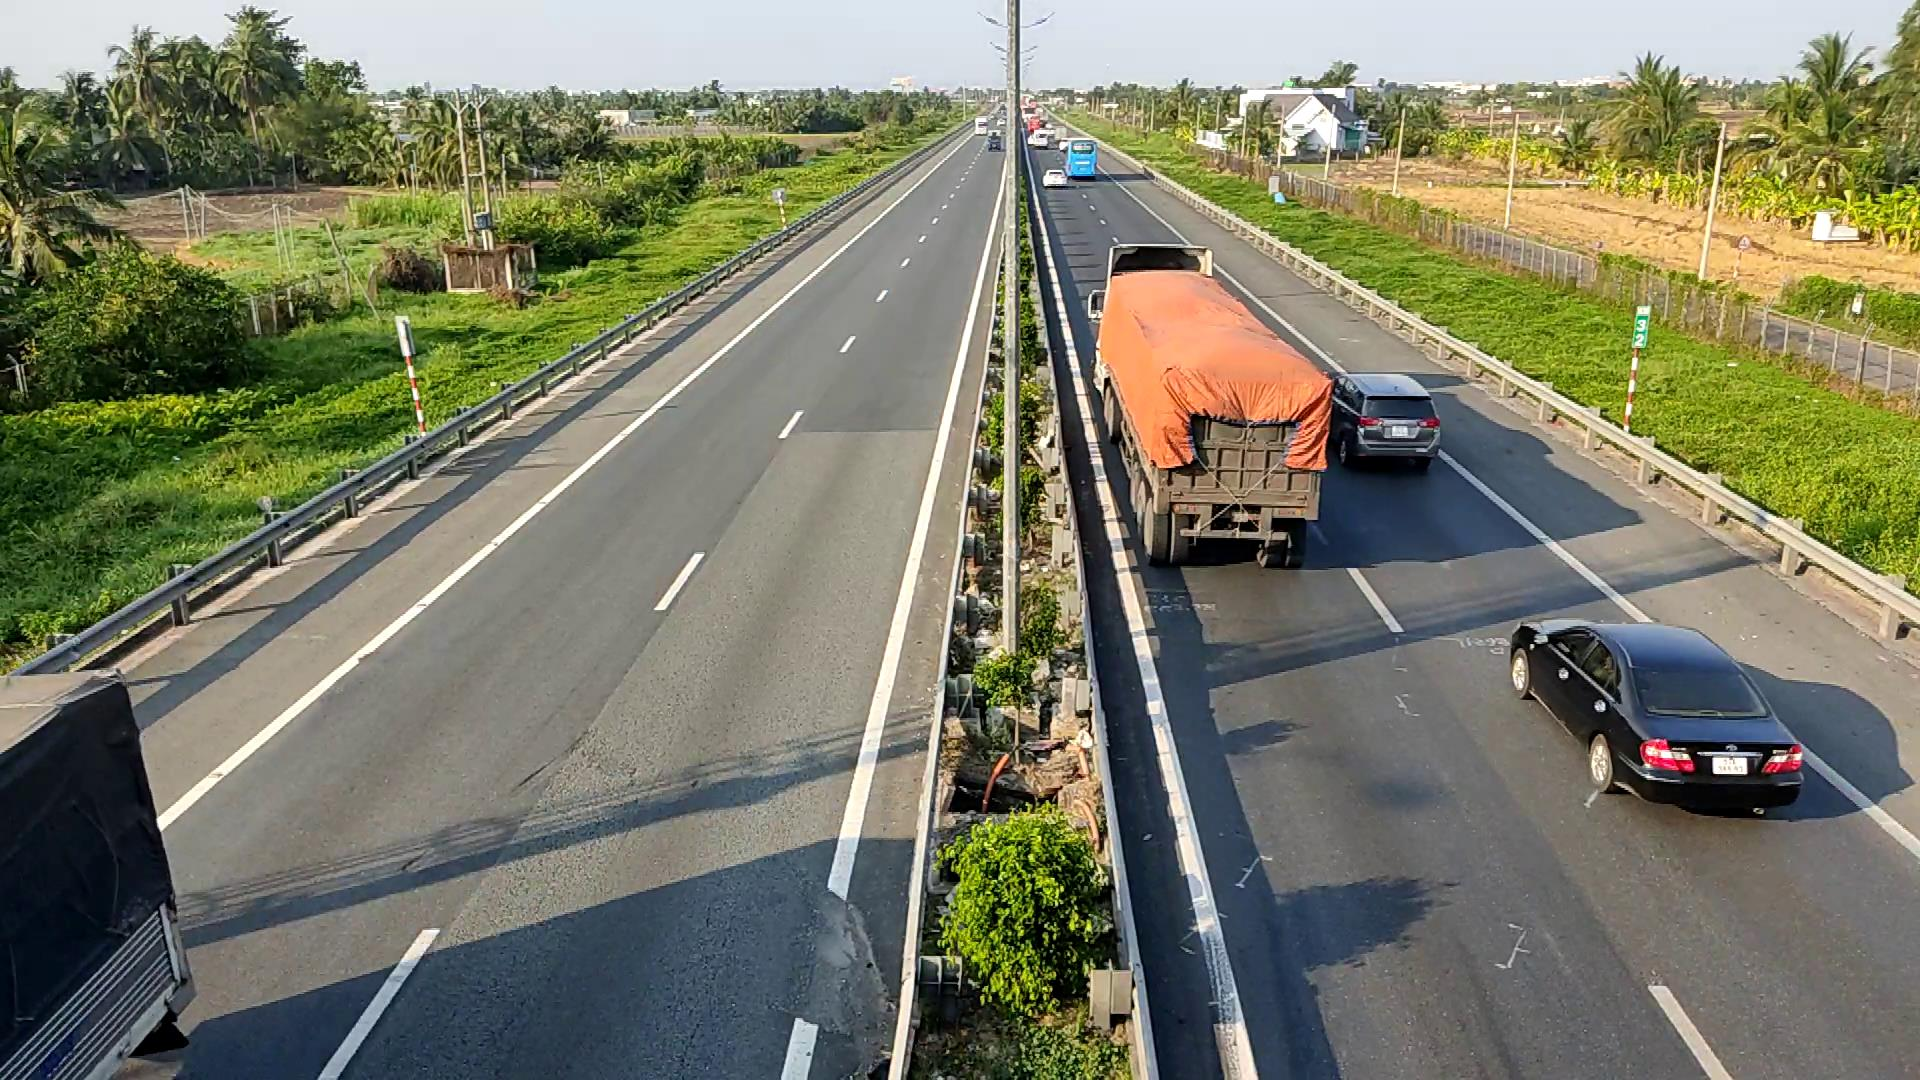car: (1510, 612, 1807, 808), (1328, 371, 1443, 469)
truck: (1087, 243, 1327, 568)
